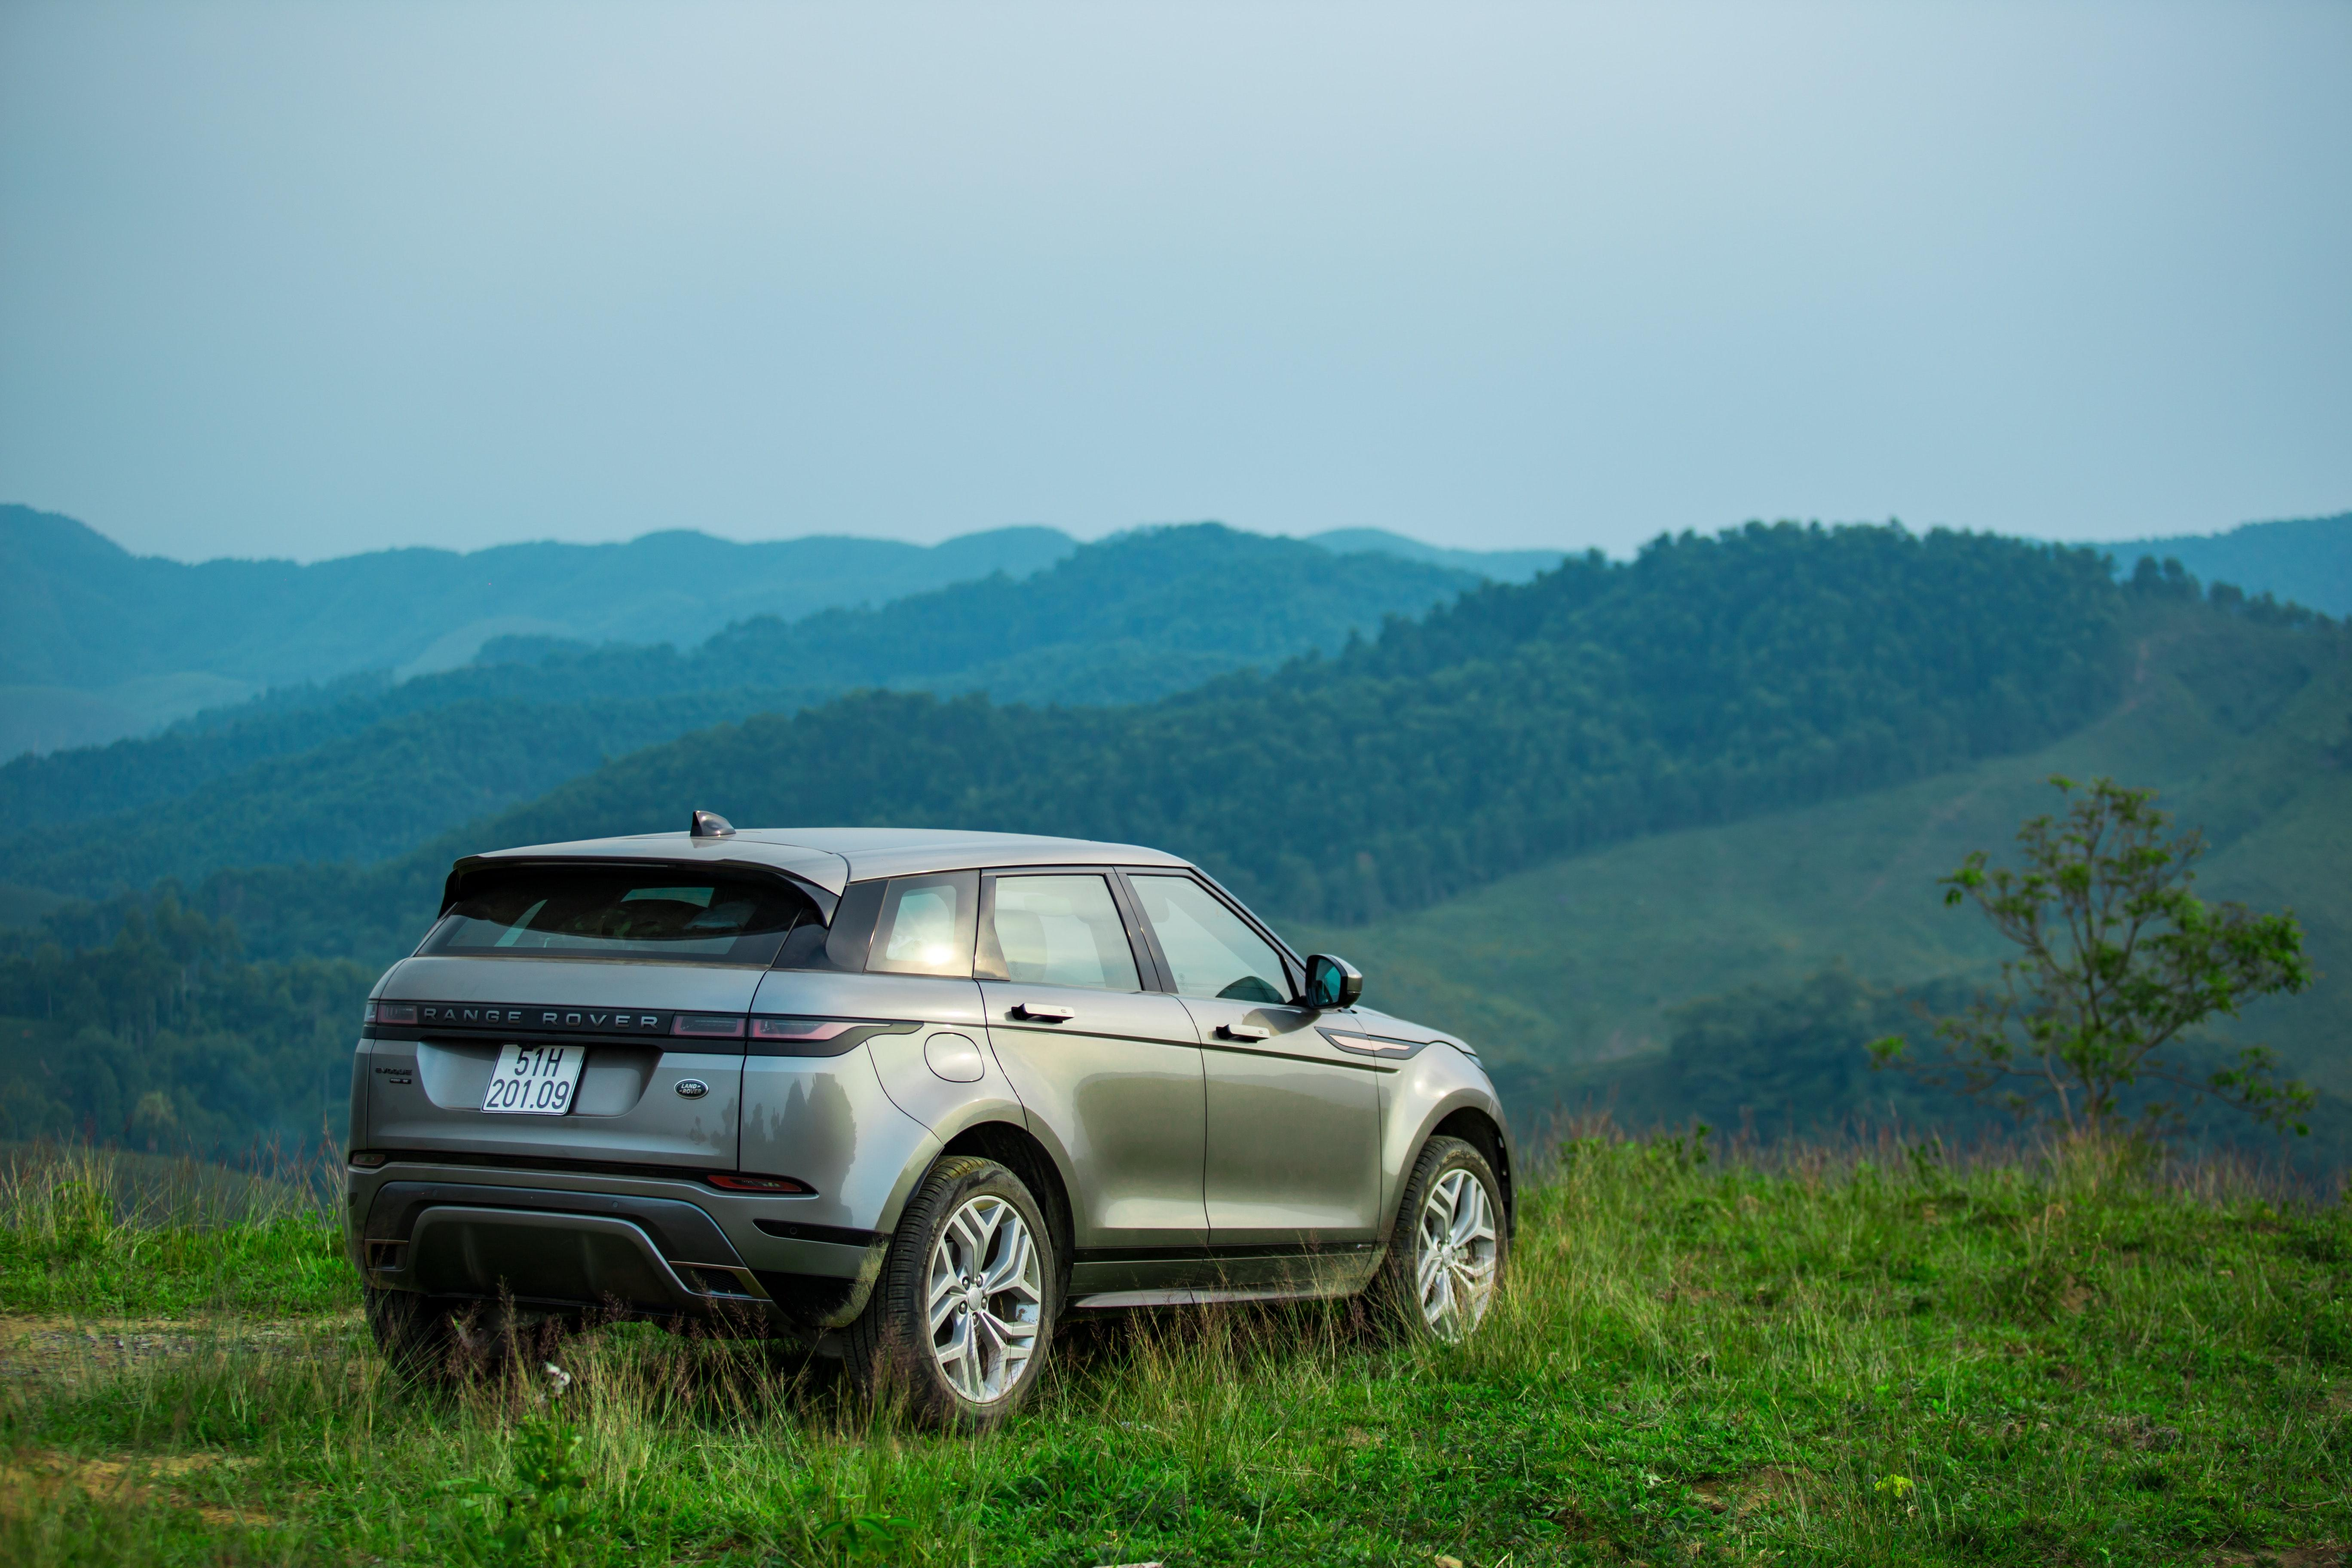range rover: (402, 997, 696, 1036)
